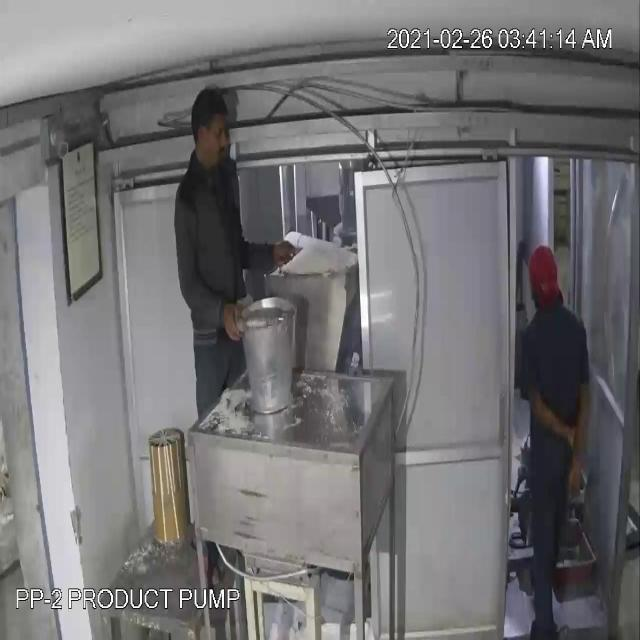no-helmet: (181, 82, 237, 157)
